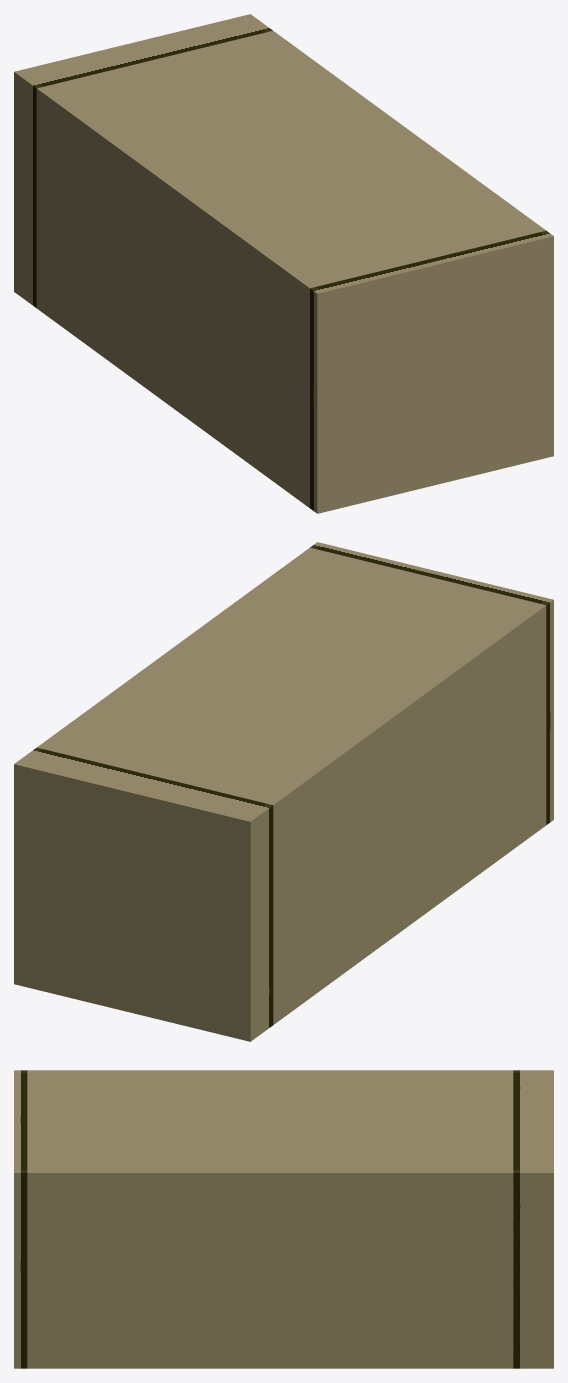
File: prop_cabinet_01.glb
3 views of the same model, one above another, from view 1: azimuth 30°, elevation 25°; view 2: azimuth 150°, elevation 25°; view 3: azimuth 270°, elevation 25° (orthographic). The views are drawn at different scales.
Visible parts, largest first — view 1: prop_cabinet_01; view 2: prop_cabinet_01; view 3: prop_cabinet_01.
Boxes of the visible parts, x1,y1,x2,y2 form: prop_cabinet_01: [14, 14, 553, 513]; prop_cabinet_01: [14, 542, 553, 1041]; prop_cabinet_01: [14, 1070, 553, 1368].
Size of the model in its own units: 36 by 32 by 80.
7 materials, 7 textured.
